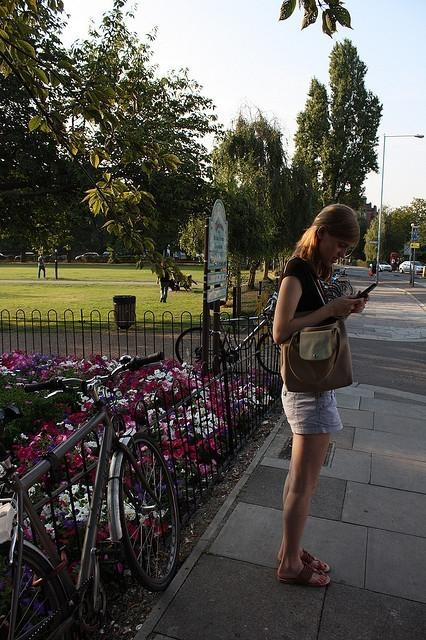bicycle: (7, 352, 185, 628), (175, 302, 280, 372), (331, 277, 351, 297), (320, 280, 342, 298)
car: (398, 261, 424, 274), (76, 252, 106, 262), (378, 261, 392, 272), (22, 254, 40, 262), (174, 251, 186, 261)
